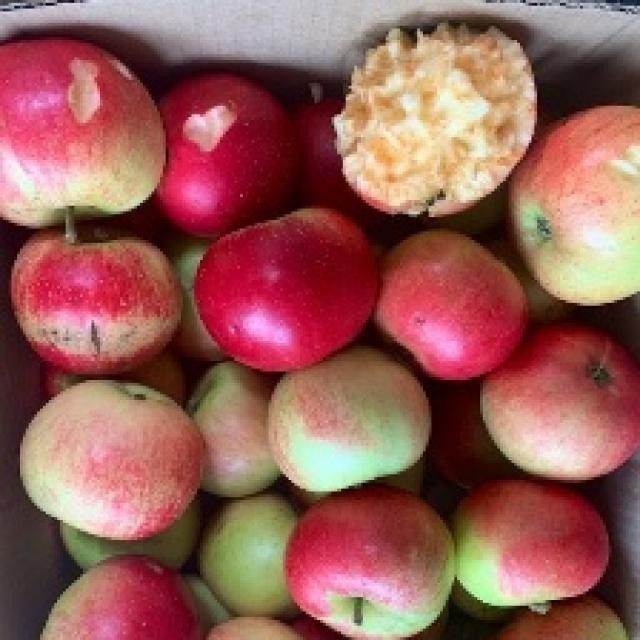apple: (333, 23, 536, 216), (195, 208, 379, 371), (20, 381, 204, 539), (509, 107, 639, 305), (286, 485, 453, 639), (11, 225, 181, 375), (480, 325, 639, 480), (155, 73, 301, 237), (269, 347, 430, 495), (375, 230, 529, 380), (452, 480, 609, 609), (40, 556, 203, 639), (188, 362, 279, 497), (200, 493, 296, 615)
